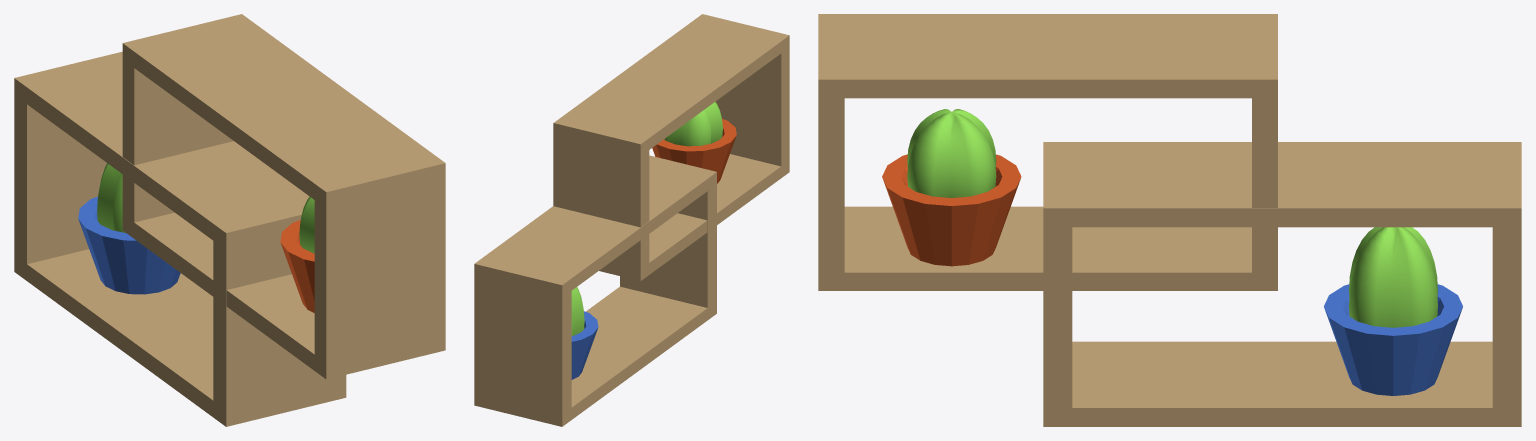
The model's file is wallshelf.glb.
3 renders of one model, left to right at view 1: azimuth 30°, elevation 25°; view 2: azimuth 150°, elevation 25°; view 3: azimuth 270°, elevation 25°, orthographic. The views are drawn at different scales.
Parts seen in each view (by area): view 1: Wallshelf, Succulent.001, Succulent; view 2: Wallshelf, Succulent, Succulent.001; view 3: Wallshelf, Succulent.001, Succulent.
Part boxes in pixels (x1=…): Wallshelf: x1=14, y1=14, x2=445, y2=426; Succulent.001: x1=78, y1=163, x2=180, y2=294; Succulent: x1=280, y1=196, x2=314, y2=312; Wallshelf: x1=474, y1=14, x2=789, y2=426; Succulent: x1=652, y1=101, x2=736, y2=183; Succulent.001: x1=571, y1=287, x2=598, y2=379; Wallshelf: x1=818, y1=14, x2=1521, y2=426; Succulent.001: x1=1324, y1=227, x2=1462, y2=395; Succulent: x1=882, y1=109, x2=1021, y2=266.
Size of the model in its own units: 0.4582 by 1.05 by 1.93.
